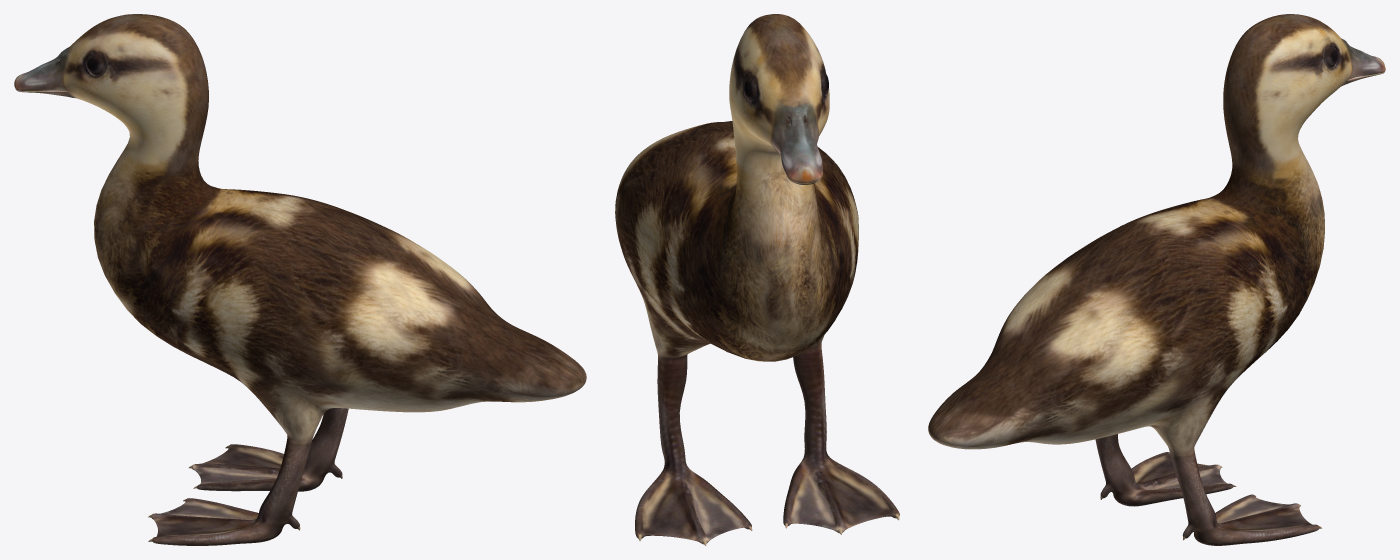
File: Ratusca3.obj
3 views of the same model, side by side, from view 1: azimuth 30°, elevation 25°; view 2: azimuth 150°, elevation 25°; view 3: azimuth 270°, elevation 25° (orthographic). The views are drawn at different scales.
Parts seen in each view (by area): view 1: 12250_Bird_v1_L3.002; view 2: 12250_Bird_v1_L3.002; view 3: 12250_Bird_v1_L3.002.
Boxes of the visible parts, <box> form: 12250_Bird_v1_L3.002: <box>14,14,586,545</box>; 12250_Bird_v1_L3.002: <box>615,14,899,545</box>; 12250_Bird_v1_L3.002: <box>928,14,1385,545</box>.
Size of the model in its own units: 0.352 by 0.4476 by 0.4008.
1 material, 1 textured.
